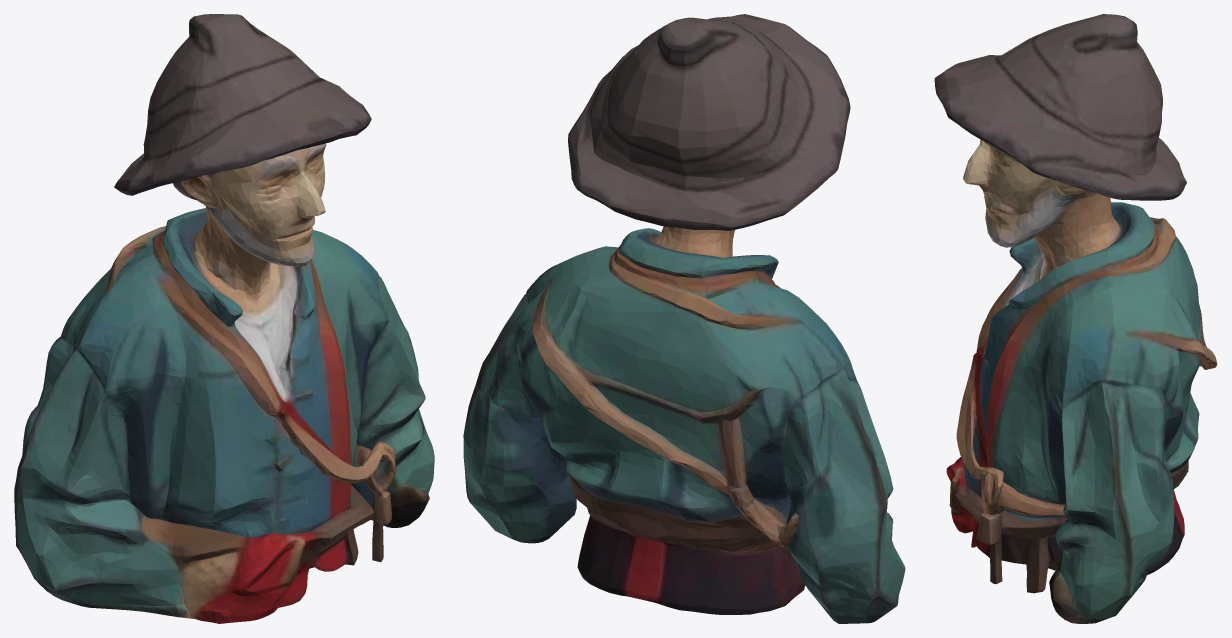
The model's file is anime_renais_commoner.glb.
The picture shows the model from 3 angles, left to right: view 1: azimuth 30°, elevation 25°; view 2: azimuth 150°, elevation 25°; view 3: azimuth 270°, elevation 25°; orthographic projection. The views are drawn at different scales.
Visible parts, largest first — view 1: geometry_0; view 2: geometry_0; view 3: geometry_0.
Boxes of the visible parts, left/top/right/bottom form: geometry_0: left=14, top=14, right=434, bottom=623; geometry_0: left=463, top=14, right=905, bottom=623; geometry_0: left=934, top=14, right=1217, bottom=623.
Bounding box in the file's own units: 0.77 × 0.9936 × 0.4828.
1 material, 1 textured.
